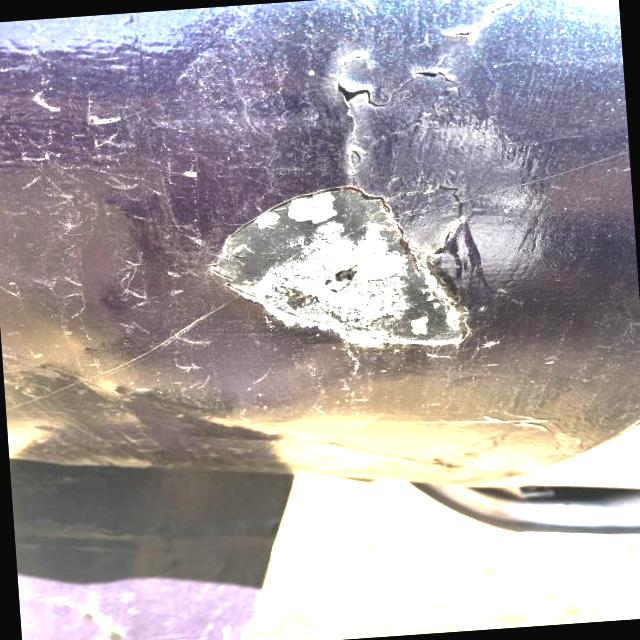crack: (324, 63, 400, 118), (444, 4, 524, 46), (413, 55, 468, 92)
dent: (198, 180, 489, 360)
